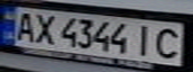3: (75, 17, 93, 51)
4: (109, 20, 133, 54), (54, 15, 78, 48), (90, 18, 112, 52)
A: (9, 9, 39, 43)
C: (151, 25, 187, 60)
I: (130, 23, 160, 57)
X: (30, 11, 60, 46)
